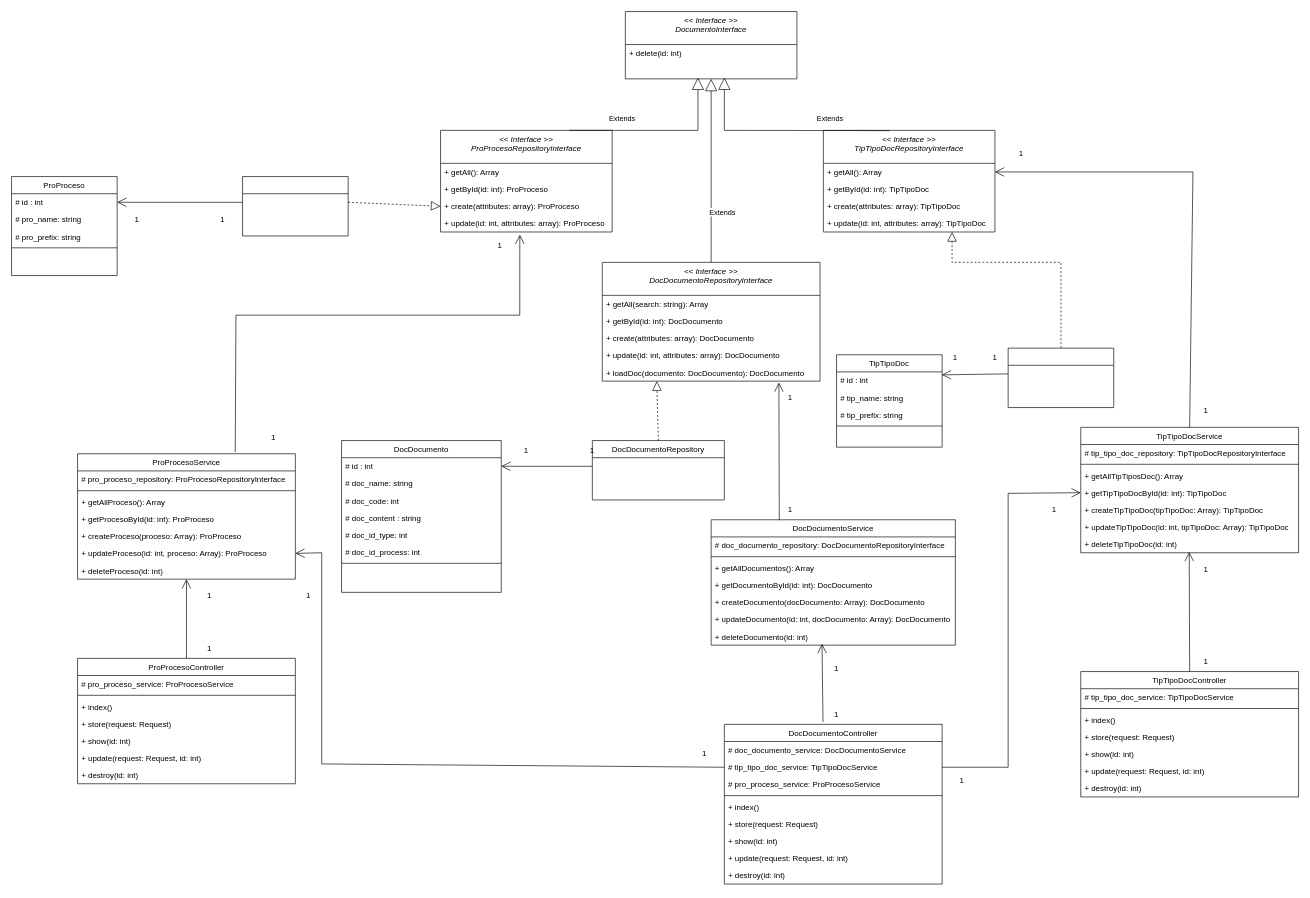
The diagram is 1310 pixels wide and 898 high, and some of its shapes have lost their labels. The centre of each missing label's shape, as x and y in pixels:
"ProProcesoRepository" goes at [295,206].
"TipTipoDocRepository" goes at [1060,377].
